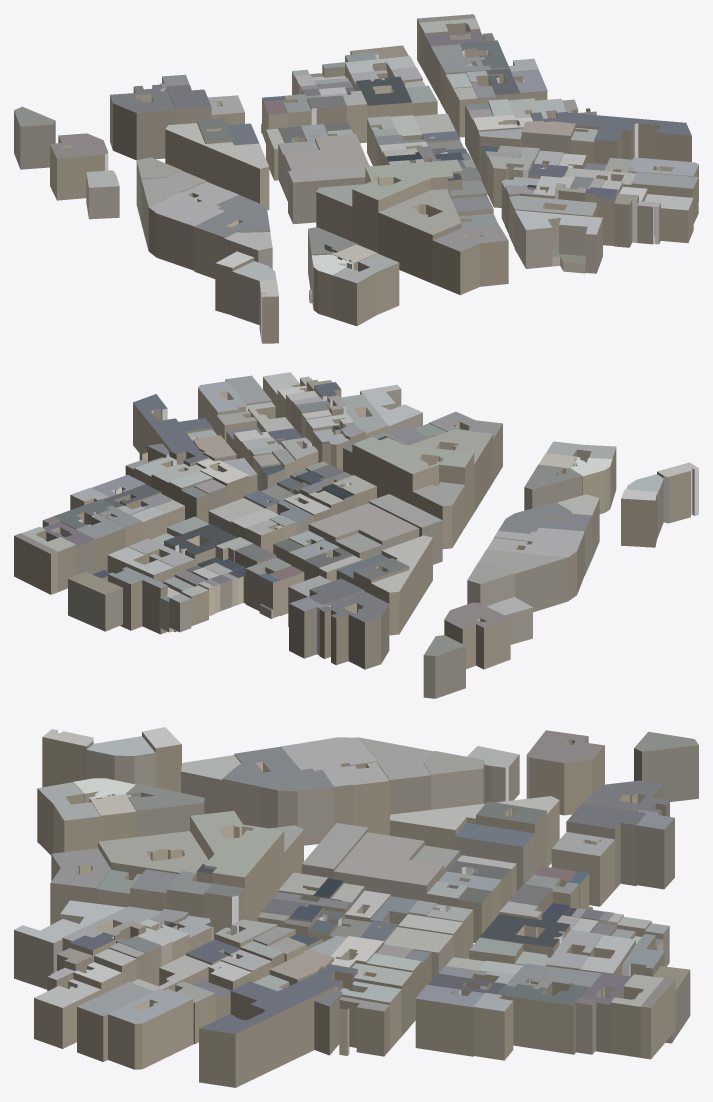
3 renders of one model, top to bottom at view 1: azimuth 30°, elevation 25°; view 2: azimuth 150°, elevation 25°; view 3: azimuth 270°, elevation 25°, orthographic. The views are drawn at different scales.
Parts seen in each view (by area): view 1: tuile; view 2: tuile; view 3: tuile.
Boxes of the visible parts, x1,y1,x2,y2 form: tuile: (14, 14, 698, 343); tuile: (14, 372, 698, 698); tuile: (14, 727, 698, 1087).
Bounding box in the file's own units: 292 × 43.59 × 274.
